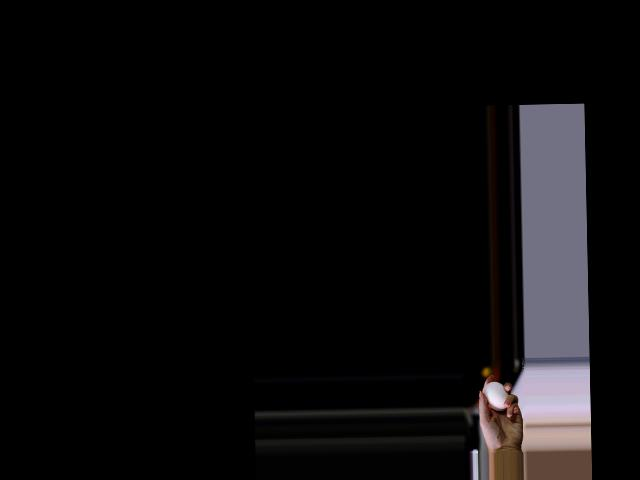egg: (484, 380, 508, 410)
